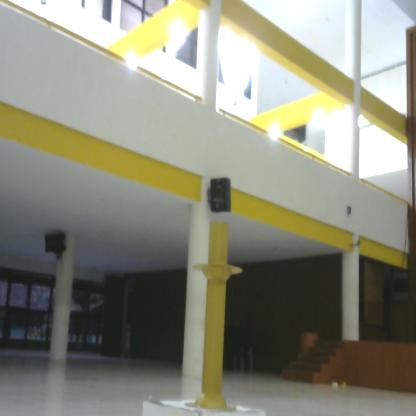pole: (183, 223, 243, 416)
